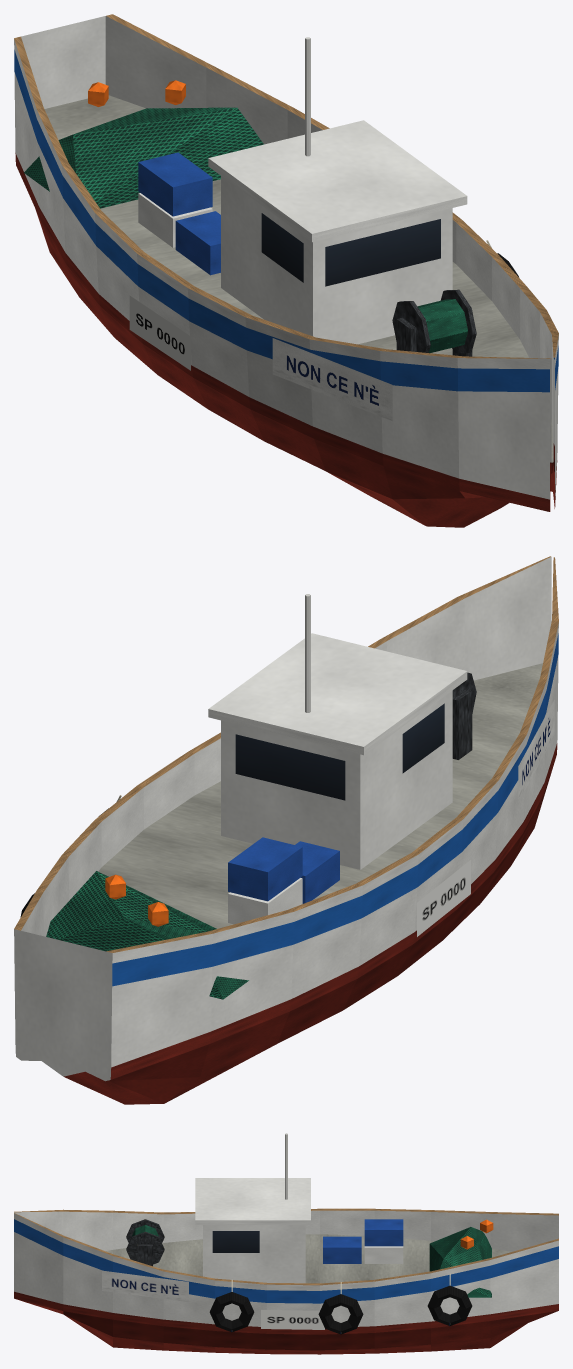
File: SM_Molo_GozzoTuga_LOD1.fbx
The picture shows the model from 3 angles, top to bottom: view 1: azimuth 30°, elevation 25°; view 2: azimuth 150°, elevation 25°; view 3: azimuth 270°, elevation 25°; orthographic projection. The views are drawn at different scales.
Visible parts, largest first — view 1: SM_Molo_GozzoTuga_LOD1; view 2: SM_Molo_GozzoTuga_LOD1; view 3: SM_Molo_GozzoTuga_LOD1.
Part boxes in pixels (x1,y1,x2,y2): SM_Molo_GozzoTuga_LOD1: [14, 14, 558, 527]; SM_Molo_GozzoTuga_LOD1: [14, 556, 558, 1104]; SM_Molo_GozzoTuga_LOD1: [14, 1133, 558, 1354].
Size of the model in its own units: 305 by 850 by 360.
1 material, 1 textured.
